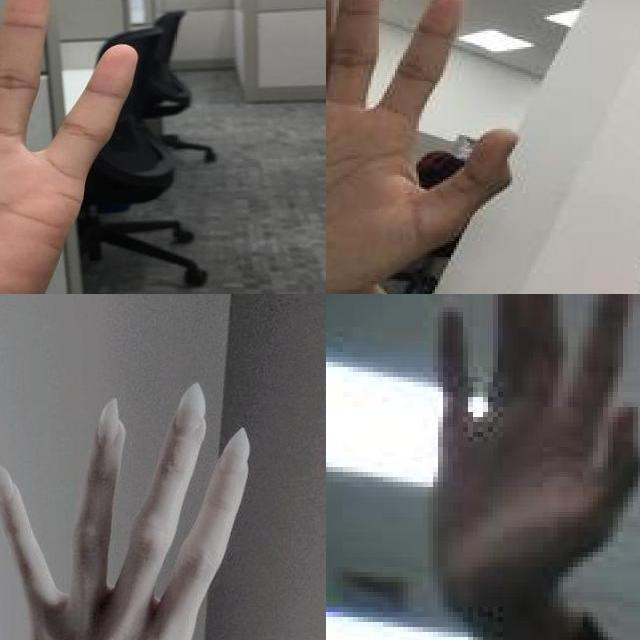hand: (0, 380, 305, 640), (428, 294, 640, 612), (0, 0, 215, 294), (326, 0, 520, 294)
